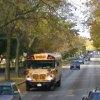Bus: (22, 51, 62, 91)
